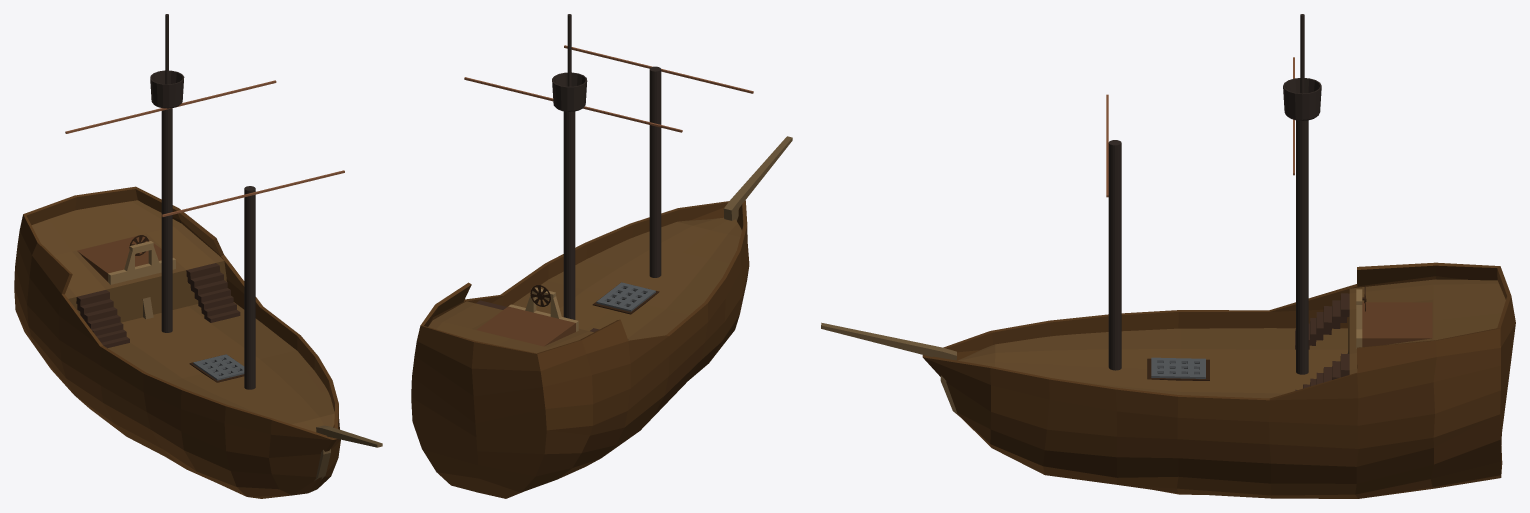
The model's file is BuildingShip.fbx.
3 renders of one model, left to right at view 1: azimuth 30°, elevation 25°; view 2: azimuth 150°, elevation 25°; view 3: azimuth 270°, elevation 25°, orthographic. The views are drawn at different scales.
Visible parts, largest first — view 1: Planken, Deck, MastHinten, MastVorne, Gerippe, SegelHinten, SegelVorne; view 2: Planken, Deck, MastHinten, MastVorne, Gerippe, SegelHinten, SegelVorne; view 3: Planken, Deck, MastHinten, MastVorne, Gerippe.
Part boxes in pixels (<box>): Planken: <box>14,186,340,498</box>; Deck: <box>31,200,334,431</box>; MastHinten: <box>150,14,184,332</box>; MastVorne: <box>244,186,255,389</box>; Gerippe: <box>142,297,382,480</box>; SegelHinten: <box>65,80,276,133</box>; SegelVorne: <box>161,170,344,216</box>; Planken: <box>411,200,749,498</box>; Deck: <box>428,217,741,353</box>; MastHinten: <box>552,14,587,319</box>; MastVorne: <box>649,66,661,277</box>; Gerippe: <box>723,136,792,220</box>; SegelHinten: <box>464,77,682,132</box>; SegelVorne: <box>564,45,753,93</box>; Planken: <box>922,262,1515,498</box>; Deck: <box>958,279,1505,398</box>; MastHinten: <box>1283,14,1321,374</box>; MastVorne: <box>1108,140,1121,370</box>; Gerippe: <box>821,322,1348,417</box>.
Bounding box in the file's own units: 642 × 1211 × 1626.
